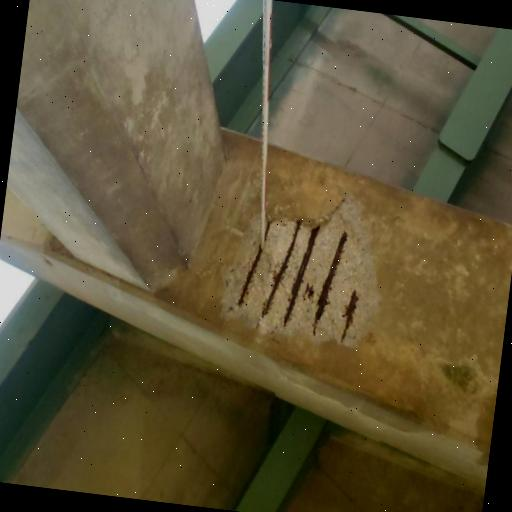spalling: (223, 197, 379, 348)
